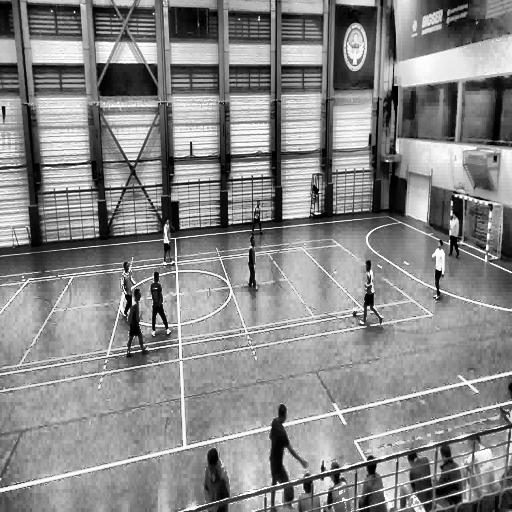ball: (351, 304, 358, 319)
player: (270, 404, 304, 506), (203, 448, 232, 510), (360, 259, 383, 328), (126, 286, 148, 355), (151, 268, 170, 336), (120, 258, 138, 321), (430, 239, 445, 300), (162, 218, 174, 265), (248, 235, 258, 291), (449, 210, 460, 258), (251, 200, 263, 235)
